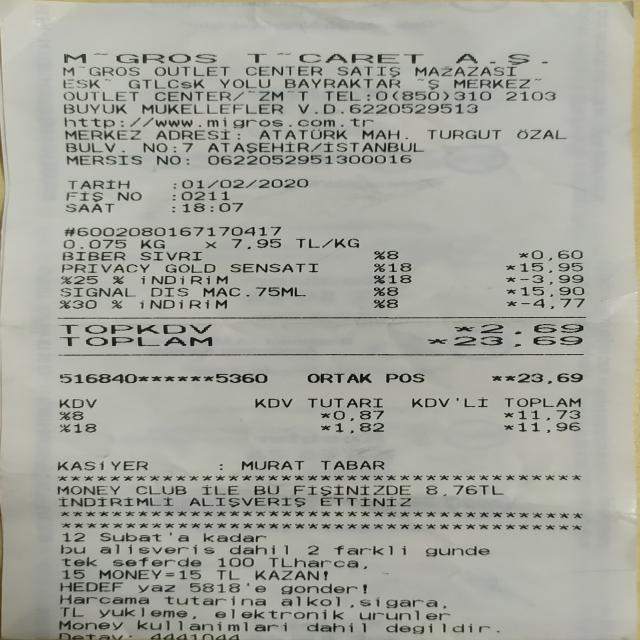text: (64, 115, 373, 130), (207, 153, 410, 166), (248, 50, 422, 65), (64, 48, 215, 65), (76, 225, 280, 237), (297, 102, 476, 115), (214, 606, 341, 623), (60, 334, 211, 348), (138, 620, 286, 634), (102, 540, 216, 558), (58, 322, 210, 335), (141, 102, 282, 115), (164, 592, 264, 609), (181, 177, 307, 190), (284, 76, 399, 90), (294, 483, 409, 497), (415, 64, 520, 78), (456, 50, 546, 66), (99, 605, 189, 621), (359, 608, 449, 624), (208, 140, 308, 154), (322, 140, 422, 154), (188, 496, 304, 508), (58, 496, 172, 508), (384, 622, 489, 635), (457, 335, 581, 346), (360, 594, 440, 611), (202, 285, 304, 298), (112, 555, 200, 570), (479, 322, 583, 334), (259, 128, 347, 142), (59, 370, 136, 386), (100, 529, 188, 543), (139, 298, 226, 312), (189, 580, 264, 596), (281, 580, 356, 596), (334, 542, 404, 558), (425, 483, 503, 497), (59, 594, 150, 606), (320, 496, 410, 508), (453, 76, 530, 90), (426, 542, 489, 559), (283, 593, 346, 610), (60, 262, 148, 274), (230, 262, 318, 274), (154, 64, 229, 78), (246, 64, 321, 78), (517, 369, 581, 385), (154, 89, 231, 102), (267, 557, 358, 568), (63, 89, 138, 102), (427, 128, 502, 141), (411, 395, 486, 408), (504, 395, 579, 408), (60, 285, 134, 298), (140, 274, 226, 285), (307, 370, 370, 385), (59, 617, 122, 632), (64, 130, 141, 142), (155, 129, 232, 141), (66, 154, 141, 166), (240, 458, 304, 472), (307, 396, 381, 408), (320, 458, 383, 472), (59, 580, 122, 594), (126, 78, 205, 89), (336, 64, 398, 78), (57, 483, 119, 497), (203, 529, 265, 543), (127, 483, 186, 497), (306, 620, 365, 634), (255, 568, 318, 581), (62, 238, 124, 251), (516, 408, 578, 421), (64, 102, 125, 115), (215, 370, 266, 385), (518, 261, 581, 273), (520, 297, 583, 309), (517, 421, 580, 433), (182, 202, 244, 214), (98, 568, 160, 580), (516, 126, 565, 141), (68, 178, 128, 190), (230, 544, 290, 556), (88, 64, 139, 78), (220, 76, 270, 90), (62, 250, 124, 261), (140, 250, 202, 261), (66, 140, 114, 154), (531, 248, 582, 261), (519, 286, 584, 296), (505, 89, 554, 102), (231, 237, 280, 250), (395, 90, 448, 102), (519, 274, 582, 284), (57, 459, 102, 473), (335, 421, 383, 434), (181, 189, 228, 202), (164, 262, 214, 274), (384, 370, 424, 385), (64, 202, 113, 214), (149, 633, 240, 639), (217, 555, 253, 570), (362, 128, 403, 141), (201, 483, 239, 497), (110, 458, 147, 472), (62, 554, 96, 569), (453, 89, 490, 102), (254, 396, 291, 409), (66, 189, 102, 202), (54, 632, 120, 639), (324, 89, 359, 102), (150, 286, 186, 298), (62, 79, 100, 90), (60, 541, 84, 557), (138, 583, 176, 593), (59, 398, 95, 408), (333, 236, 358, 250), (116, 189, 141, 202), (140, 237, 163, 251), (72, 298, 95, 312), (255, 483, 278, 497), (144, 140, 166, 154), (156, 153, 179, 166), (296, 237, 319, 250), (216, 568, 239, 581), (62, 529, 84, 542), (178, 568, 200, 581), (454, 322, 473, 336), (62, 568, 84, 580), (261, 89, 281, 102), (73, 274, 96, 285), (388, 273, 410, 284), (73, 422, 95, 433), (60, 607, 84, 617), (388, 262, 410, 272), (310, 140, 322, 154), (201, 240, 219, 249), (308, 542, 318, 558), (490, 375, 516, 381), (321, 236, 332, 250), (59, 298, 70, 312), (111, 298, 122, 312), (182, 140, 192, 154), (427, 79, 440, 89), (376, 89, 386, 102), (518, 248, 528, 261), (505, 261, 515, 274), (502, 408, 512, 421), (320, 421, 330, 434), (502, 421, 512, 434), (111, 274, 122, 285), (372, 273, 383, 284), (505, 285, 515, 297), (506, 297, 516, 309), (320, 409, 330, 421), (426, 338, 446, 344), (63, 64, 71, 78), (373, 249, 384, 259), (386, 249, 397, 259), (373, 262, 384, 272), (60, 274, 70, 285), (373, 286, 384, 296), (386, 286, 397, 296), (58, 410, 69, 420), (71, 410, 82, 420), (64, 225, 73, 237), (188, 606, 195, 621), (372, 299, 383, 308), (60, 422, 69, 433), (236, 89, 243, 102), (386, 299, 396, 308), (505, 274, 514, 284), (443, 594, 448, 611), (497, 622, 503, 636), (362, 556, 366, 571), (322, 569, 327, 581), (362, 581, 366, 596), (168, 193, 176, 200), (121, 140, 124, 154), (172, 140, 175, 154), (366, 89, 369, 102), (170, 202, 173, 214), (186, 153, 188, 166), (172, 177, 174, 190)
